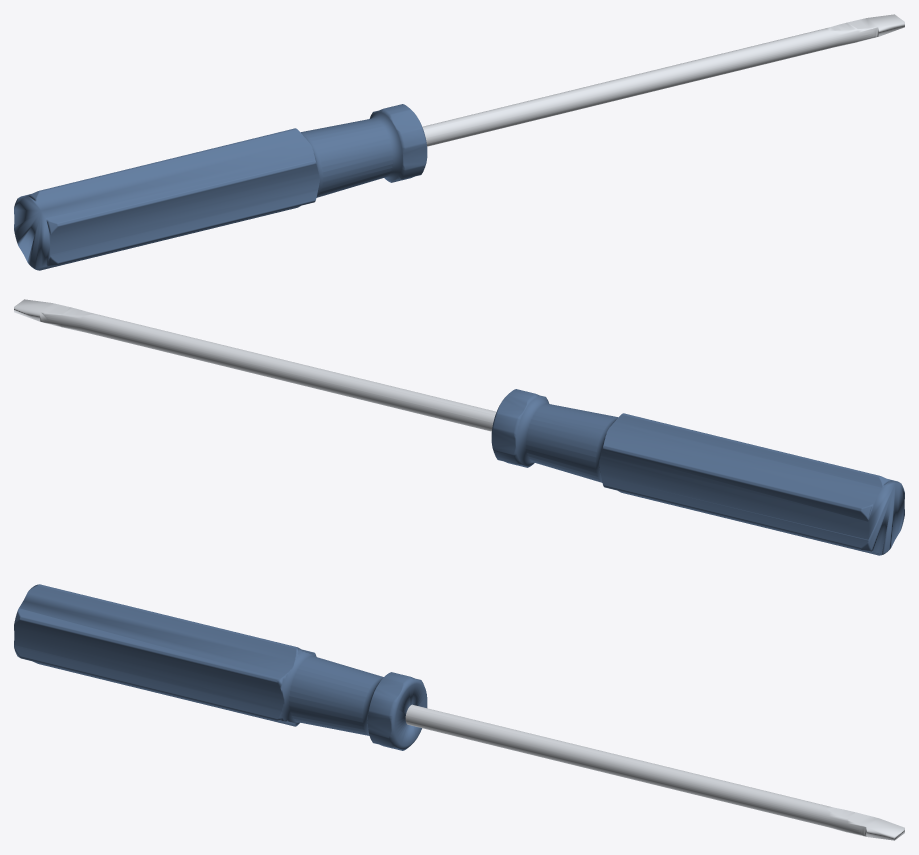
File: screwdriver.glb
3 views of the same model, one above another, from view 1: azimuth 30°, elevation 25°; view 2: azimuth 150°, elevation 25°; view 3: azimuth 330°, elevation 25° (orthographic).
Size of the model in its own units: 0.18 by 0.0156 by 0.0138.
